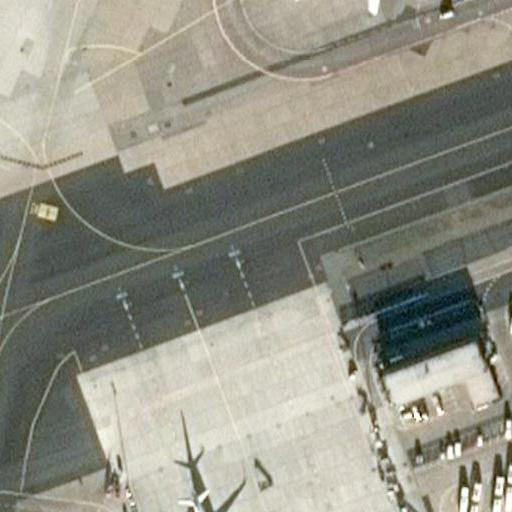Aircraft: (162, 481, 253, 512)
